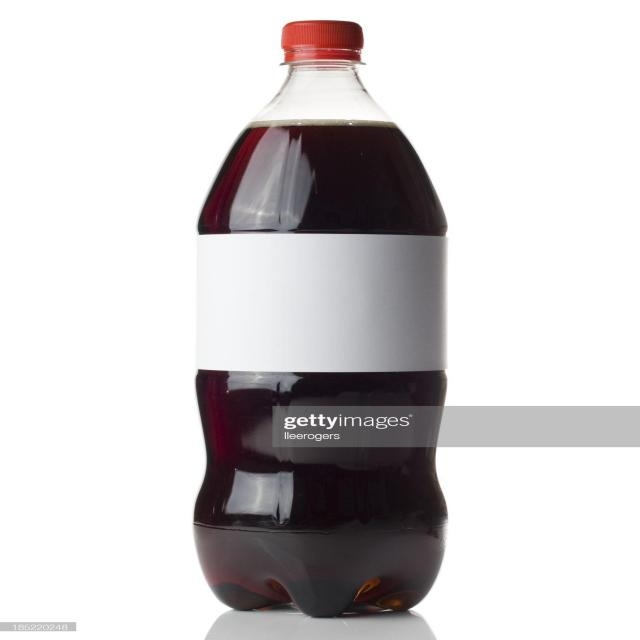bottle-plastic: (186, 12, 450, 624)
